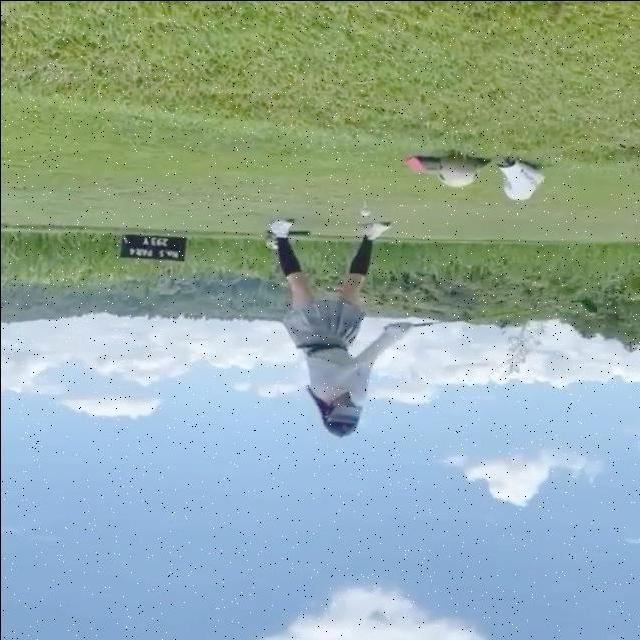golf ball: (360, 207, 370, 216)
golf club-handle: (407, 295, 599, 328)
golf club-head: (580, 298, 599, 318)
